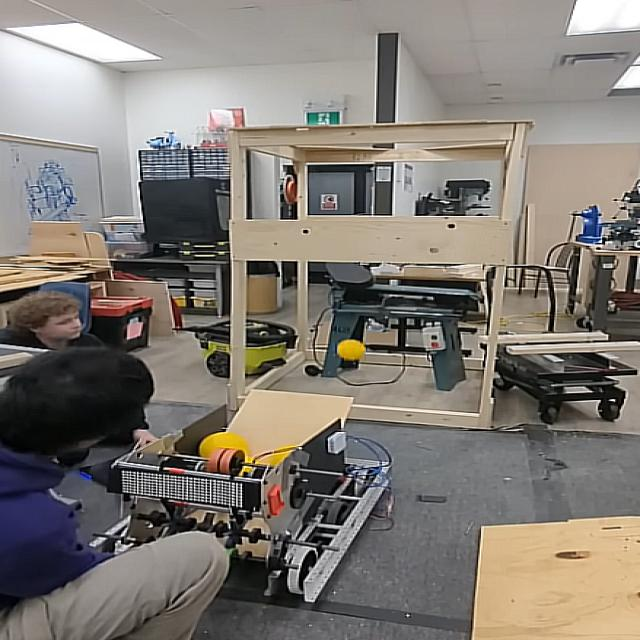Fuel: (198, 432, 252, 462), (200, 431, 245, 457), (252, 447, 294, 469), (254, 447, 292, 465), (337, 340, 364, 360), (239, 465, 252, 476)
